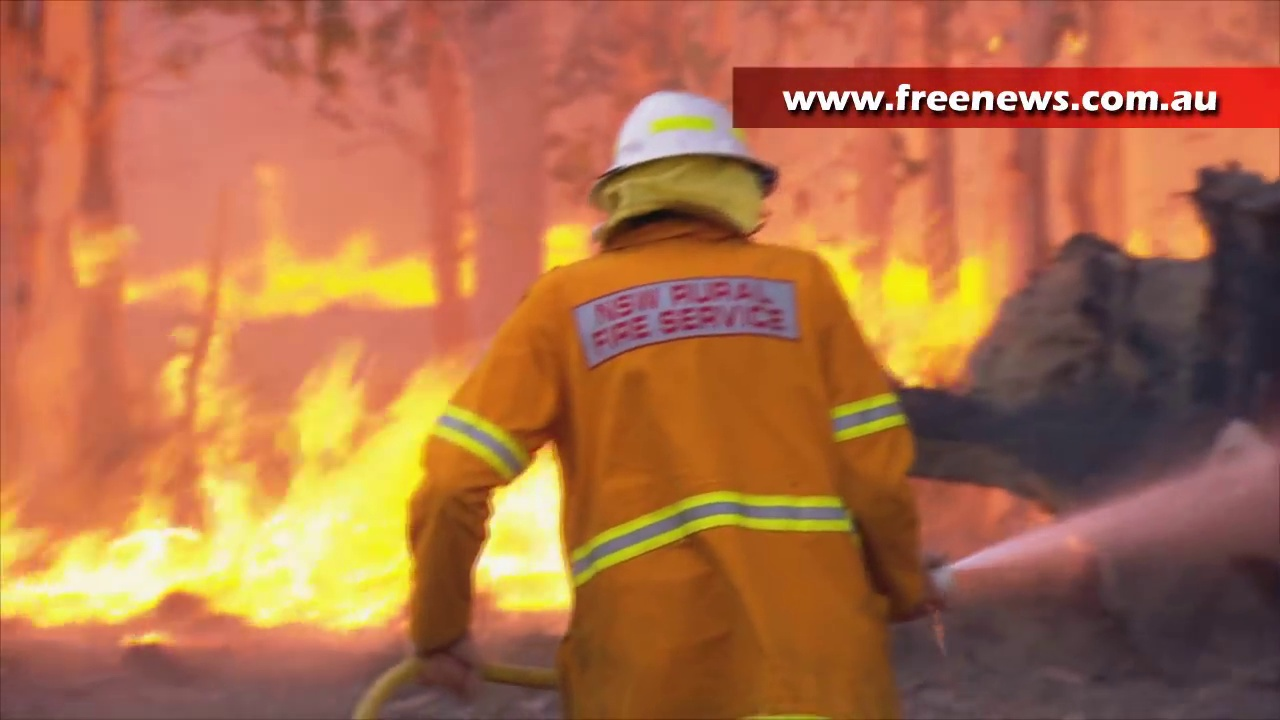fire: (1, 333, 425, 629), (191, 254, 438, 318), (847, 262, 981, 375), (485, 469, 563, 616), (545, 227, 593, 266), (69, 232, 104, 284)
